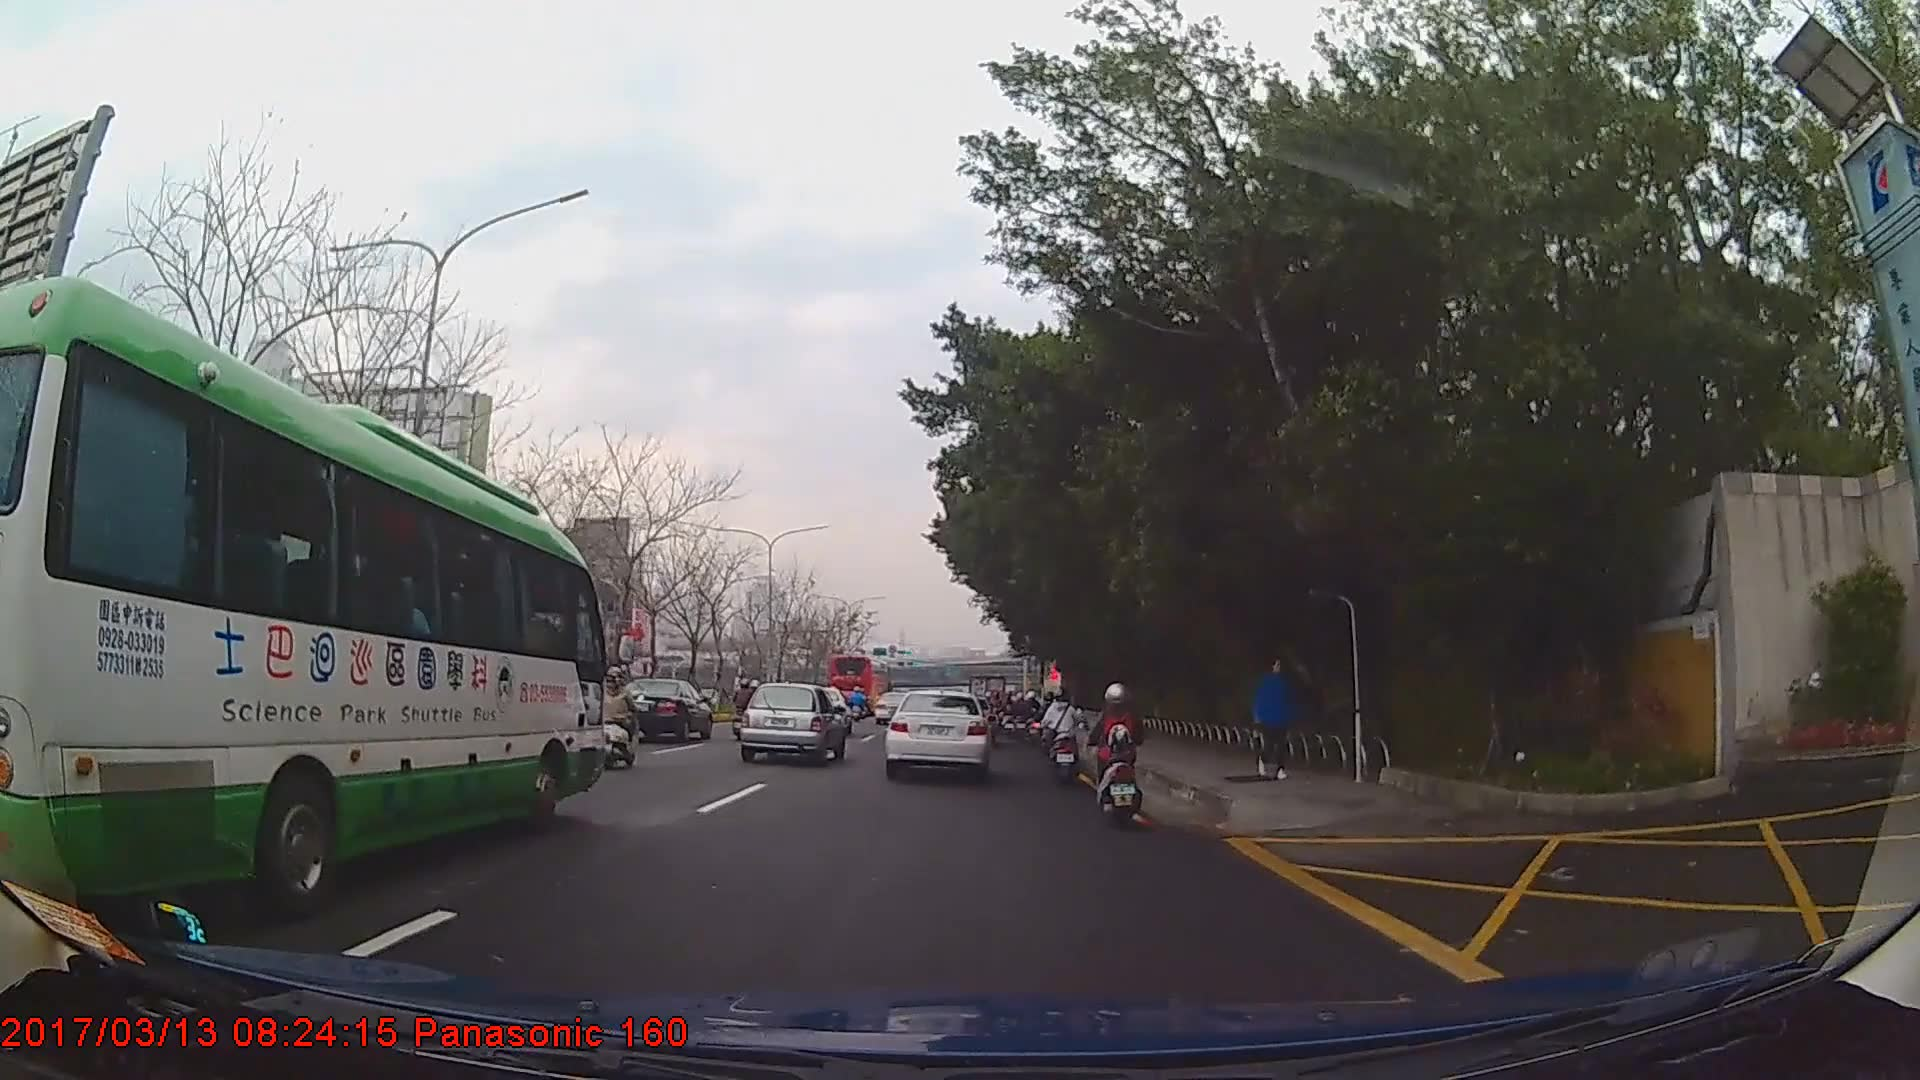pedestrian: (1254, 658, 1300, 779)
rider: (1087, 678, 1144, 819), (599, 665, 639, 772), (1040, 689, 1083, 778), (1037, 693, 1062, 759), (735, 676, 760, 727)
vehicle: (0, 272, 608, 917), (883, 687, 990, 780), (738, 682, 846, 764), (619, 673, 713, 744), (828, 650, 895, 713)
